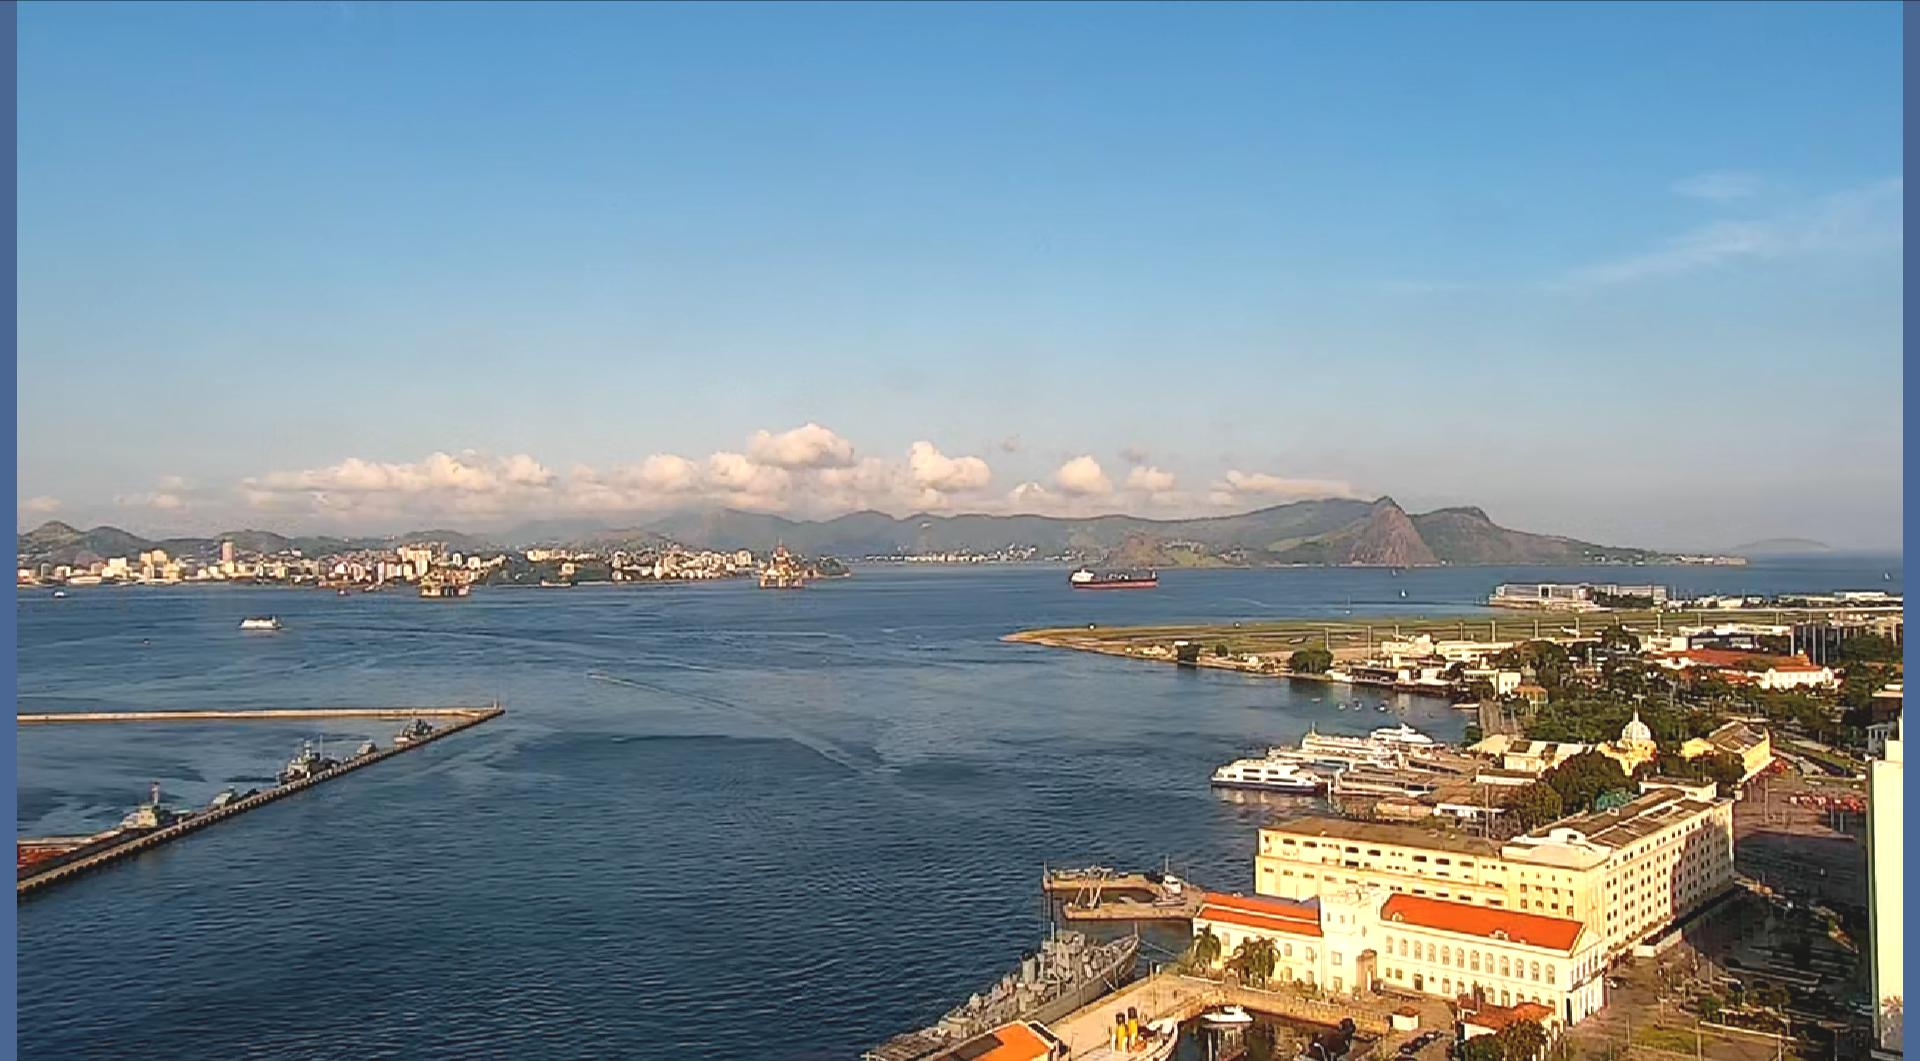Ship0: (270, 738, 342, 793), (114, 800, 199, 831), (389, 716, 439, 742)
Ship1: (1300, 716, 1438, 776), (1206, 749, 1332, 798), (236, 614, 282, 634)
Ship2: (1066, 566, 1162, 591)
Ship3: (1341, 595, 1353, 615)
